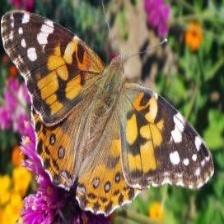butterfly: (2, 11, 214, 216)
